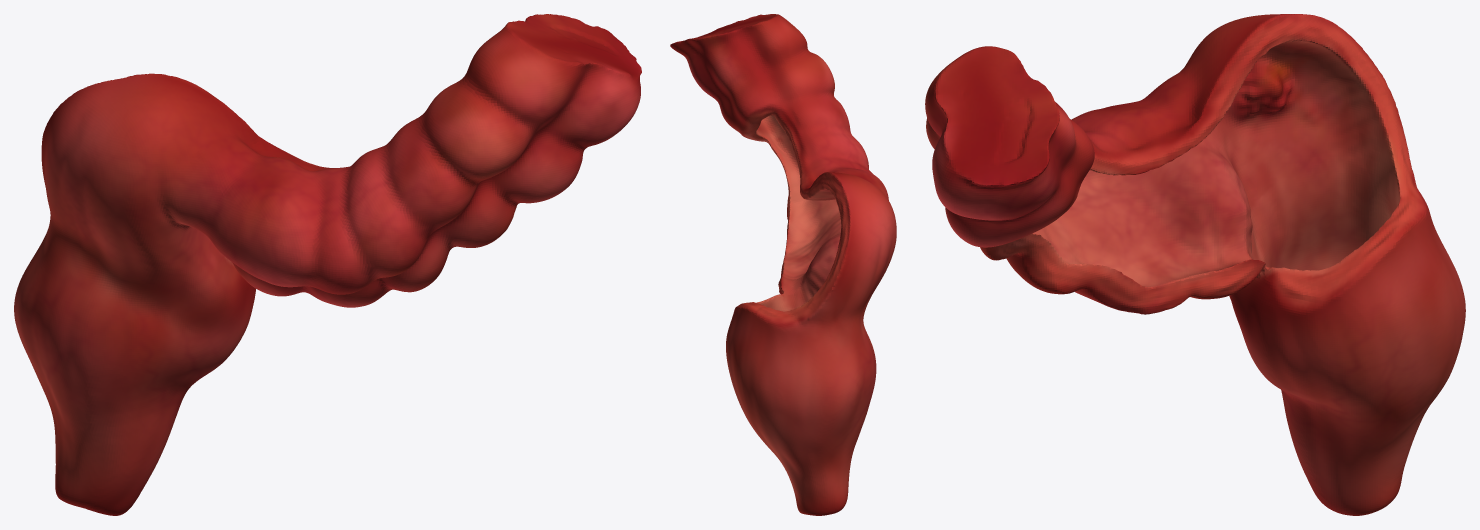
The model's file is stage-2-m-v1.glb.
3 views of the same model, side by side, from view 1: azimuth 30°, elevation 25°; view 2: azimuth 150°, elevation 25°; view 3: azimuth 270°, elevation 25° (orthographic). The views are drawn at different scales.
Visible parts, largest first — view 1: BOOLEAN COLON HEALTHY; view 2: BOOLEAN COLON HEALTHY; view 3: BOOLEAN COLON HEALTHY.
Part boxes in pixels (left/top/right/bottom): BOOLEAN COLON HEALTHY: left=14, top=14, right=641, bottom=515; BOOLEAN COLON HEALTHY: left=670, top=14, right=896, bottom=515; BOOLEAN COLON HEALTHY: left=925, top=14, right=1465, bottom=515.
Size of the model in its own units: 0.3578 by 0.4251 by 0.3558.
Materials: 1 (1 with a texture image).
